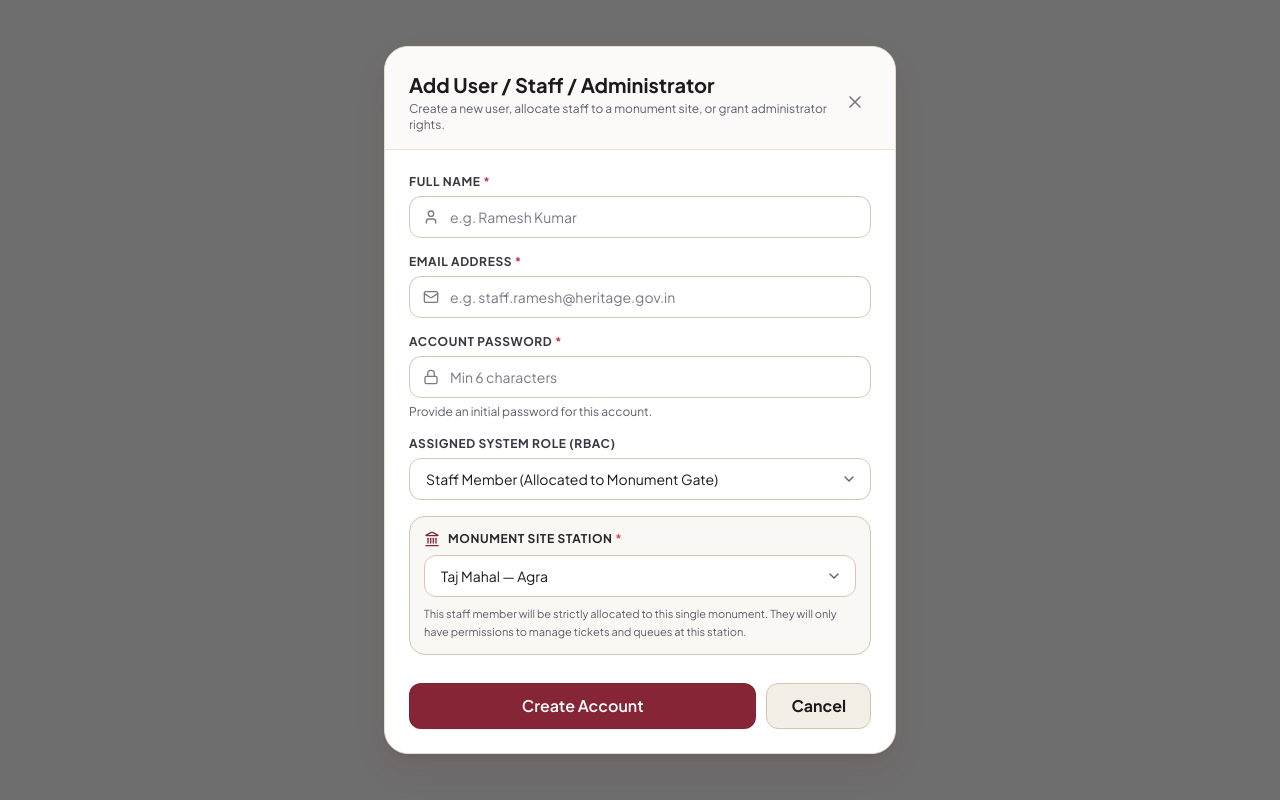
Test: UserFormModal RBAC & Allocation Tests › toggles monument allocation explanation when role is changed to Administrator or Visitor
Switch to admin
Select "Administrator (Full System & RBAC Access)" in the dropdown labelled "Assigned System Role (RBAC)" at (640,479), box [409,458,871,500]
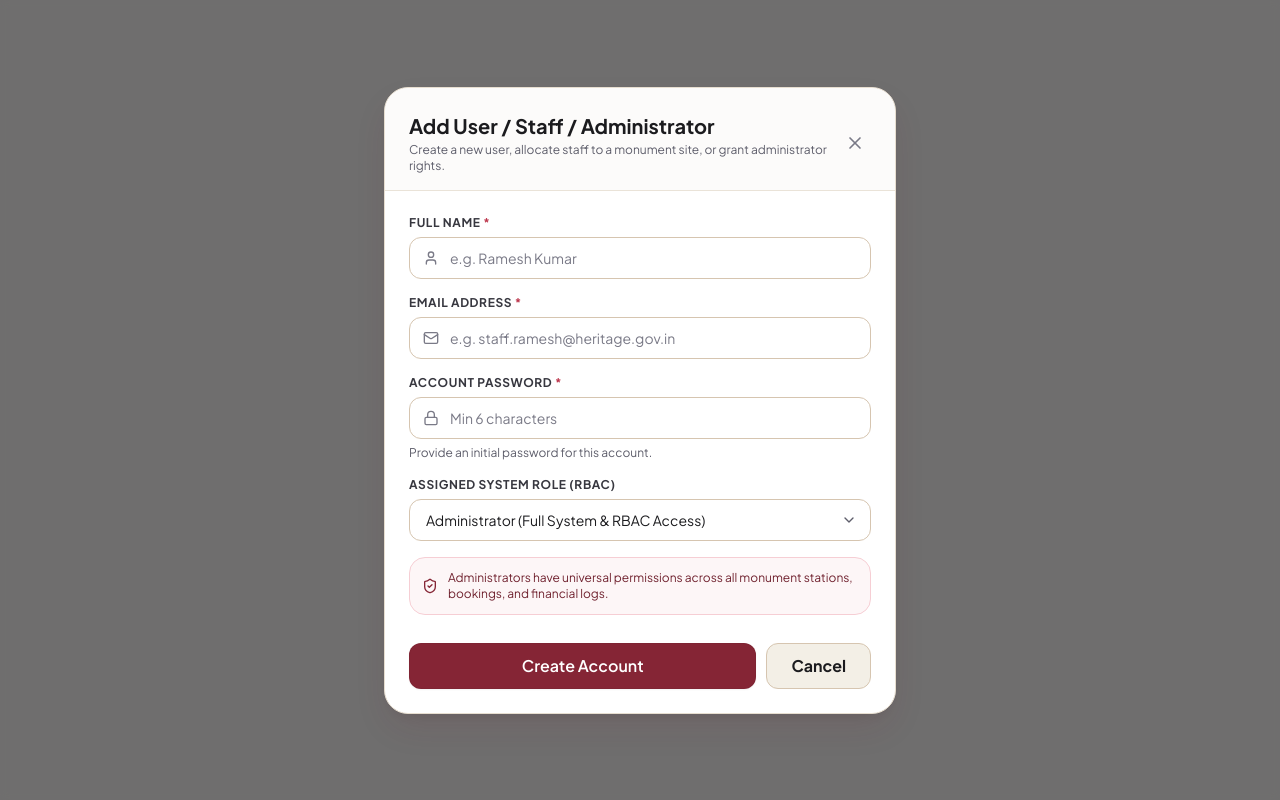
Expected: the text "Administrators have universal permissions across all monument stations" is shown, [448,570,853,600]
Expected: the text "Monument Site Station" is gone
Switch to visitor
Select "User / Visitor (General Ticket Booking)" in the dropdown labelled "Assigned System Role (RBAC)" at (640,520), box [409,498,871,540]
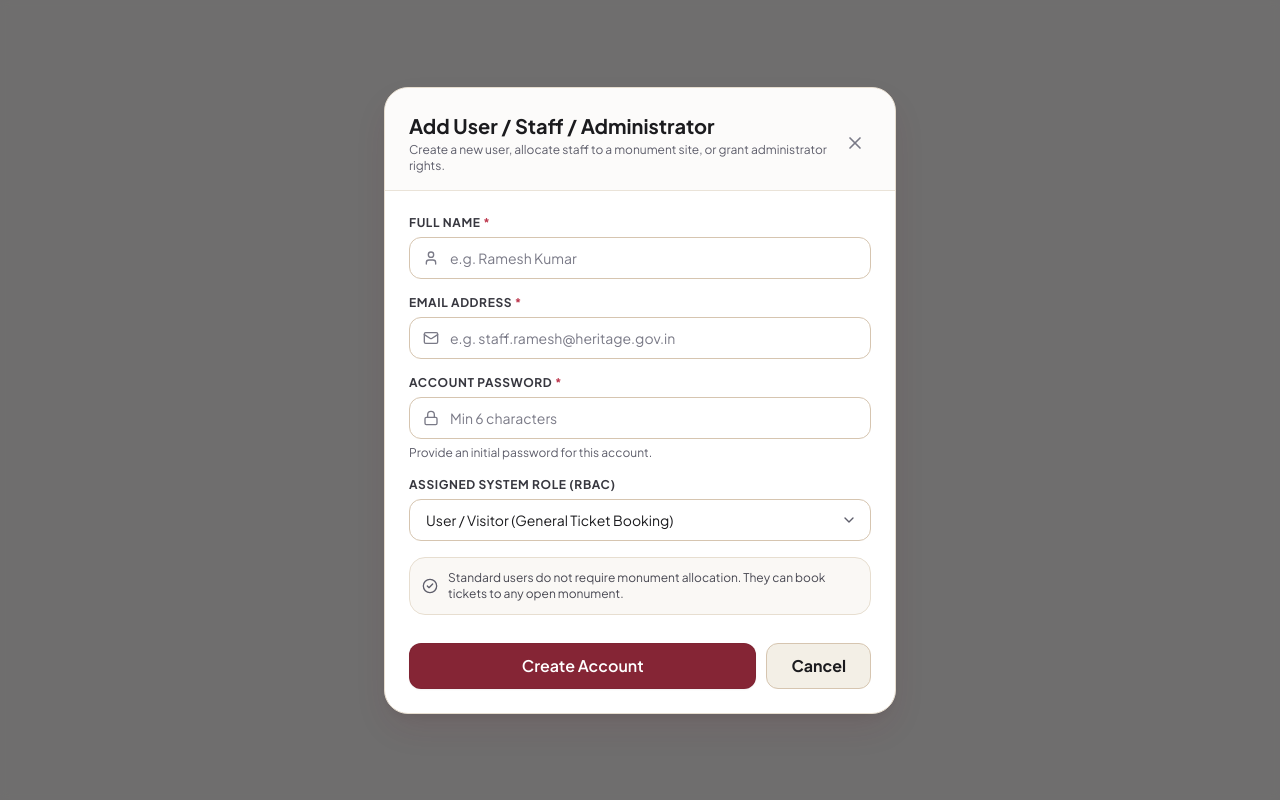
Expected: the text "Standard users do not require monument allocation" is shown, [448,570,825,600]
Switch back to staff
Select "Staff Member (Allocated to Monument Gate)" in the dropdown labelled "Assigned System Role (RBAC)" at (640,520), box [409,498,871,540]
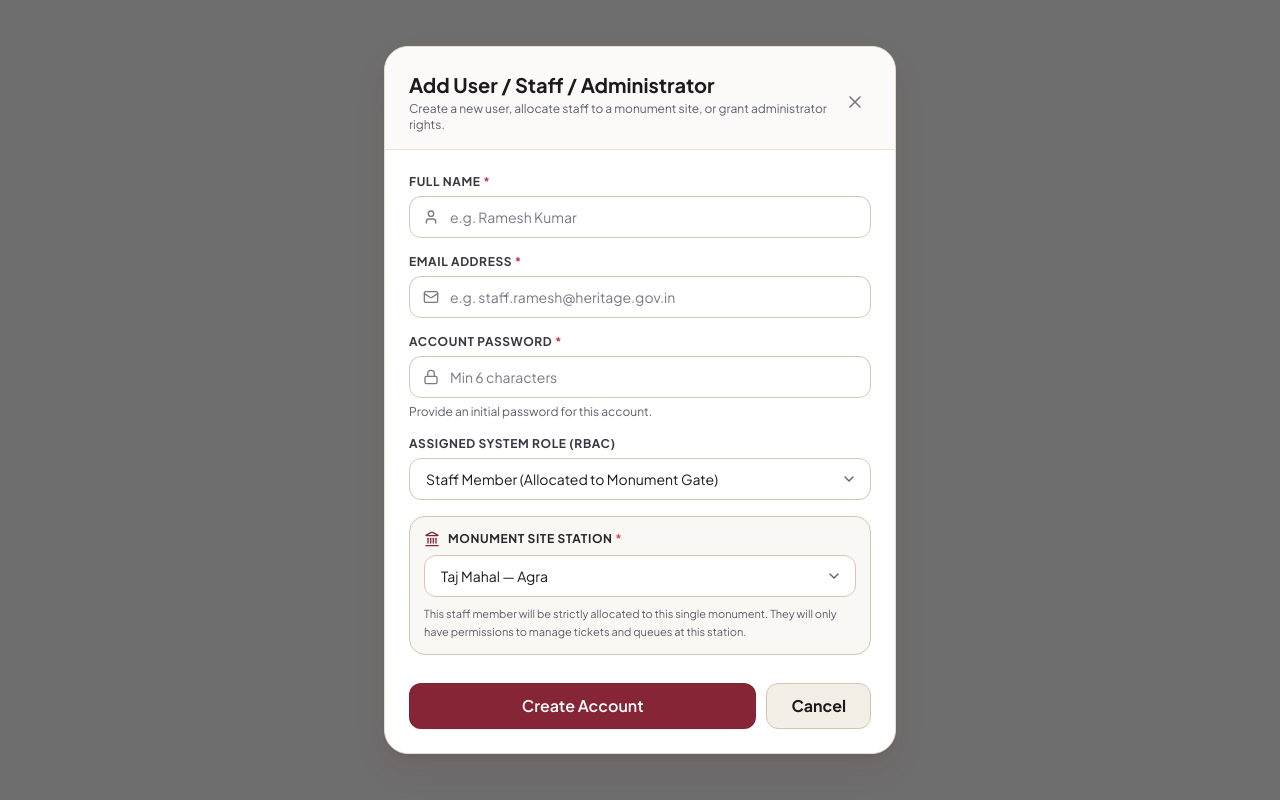
Expected: the text "Monument Site Station *" is shown, [448,531,622,547]
